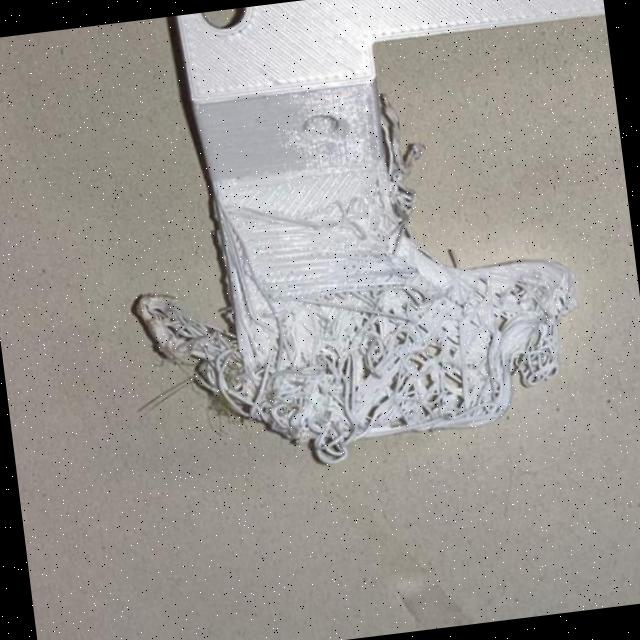spaghetti: (229, 272, 506, 456), (132, 285, 250, 408)
